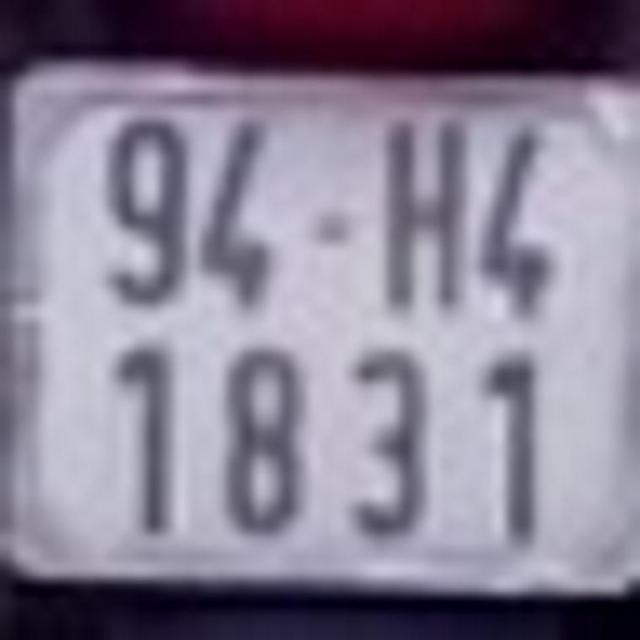1: (113, 342, 178, 532), (481, 347, 540, 544)
3: (348, 339, 424, 536)
4: (481, 119, 558, 316), (197, 115, 277, 304)
8: (226, 340, 304, 540)
9: (103, 118, 188, 308)
H: (381, 112, 462, 306)
